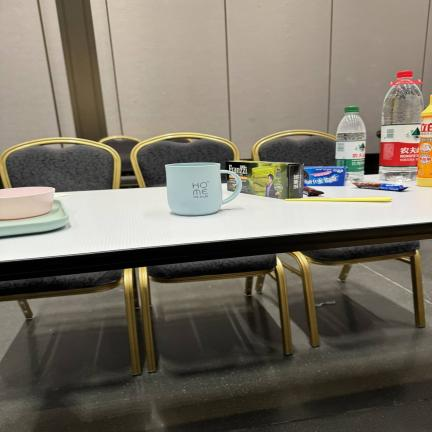cup: (166, 163, 240, 215)
